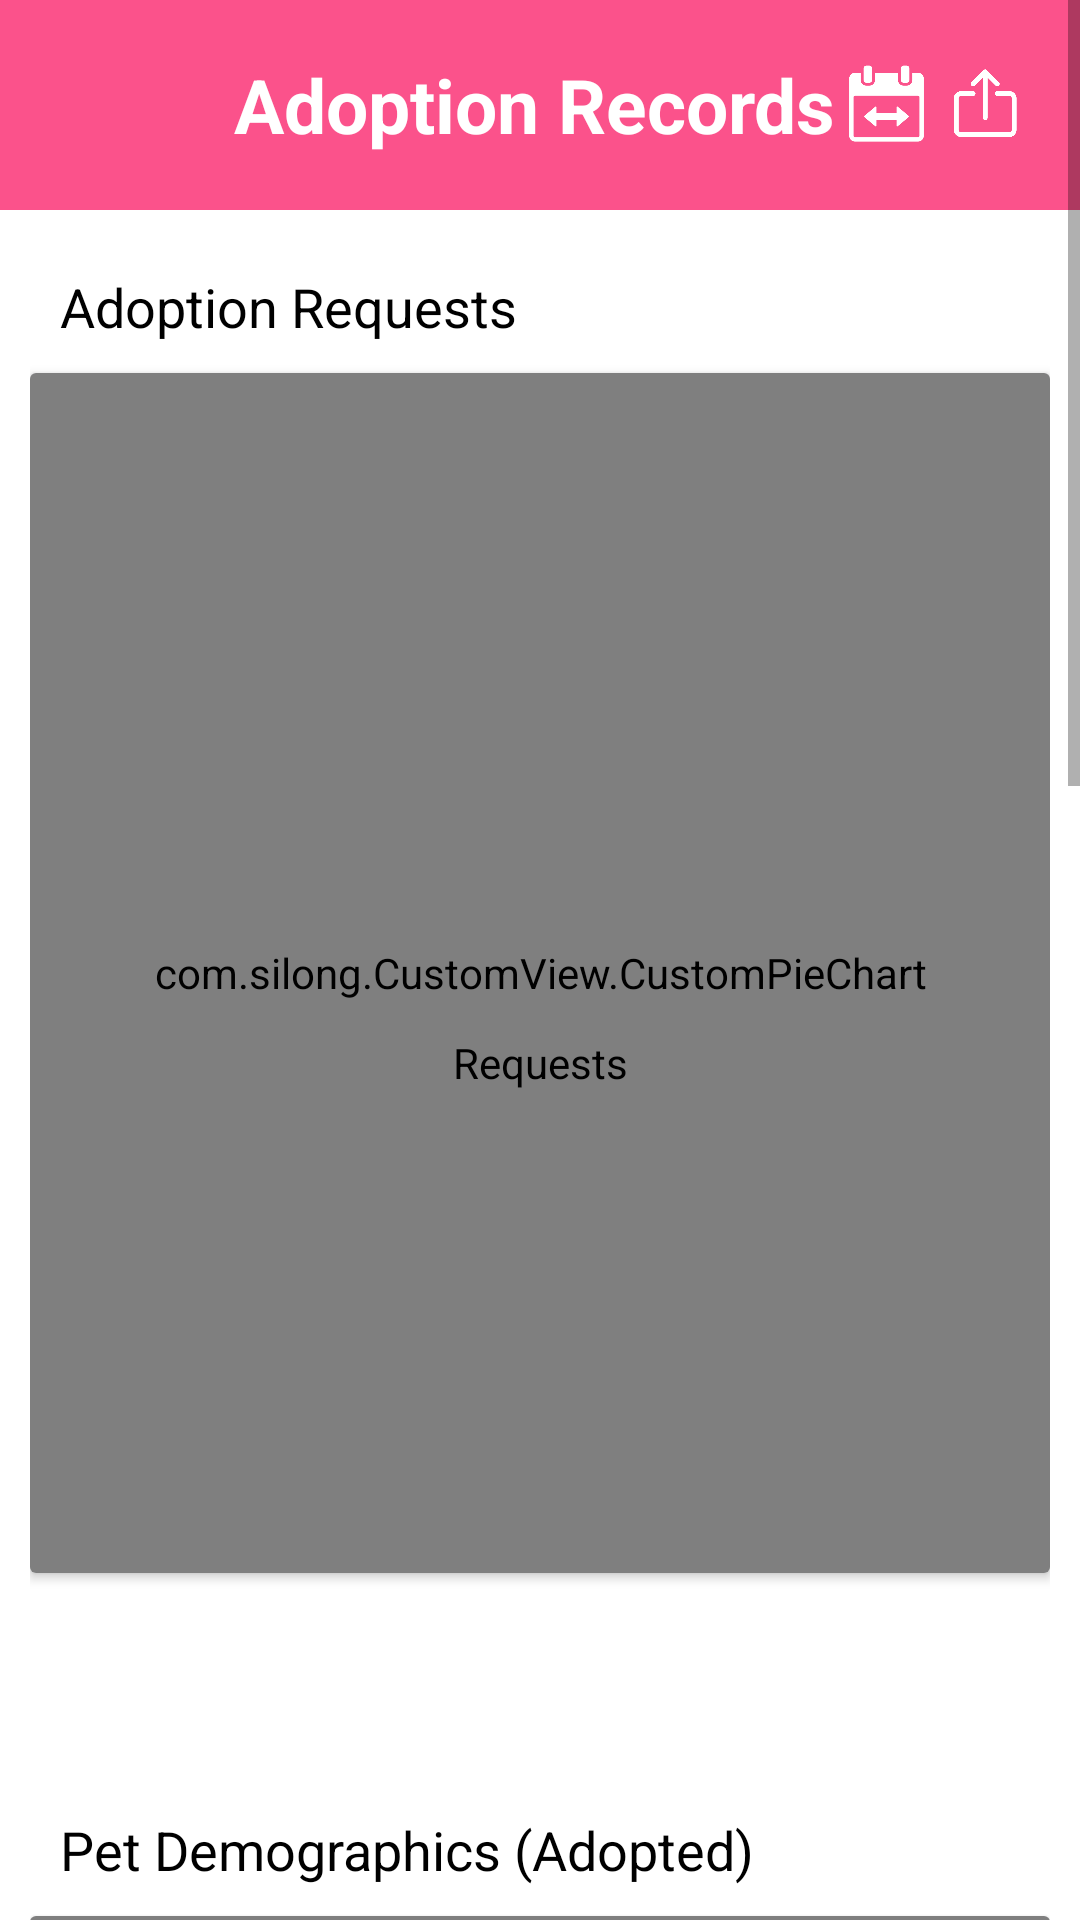

Icons on this 1080px×1920px Android screen, each with its box as Rect(x1, y1, x2, y2):
date range: Rect(849, 65, 924, 142)
export: Rect(954, 69, 1017, 137)
